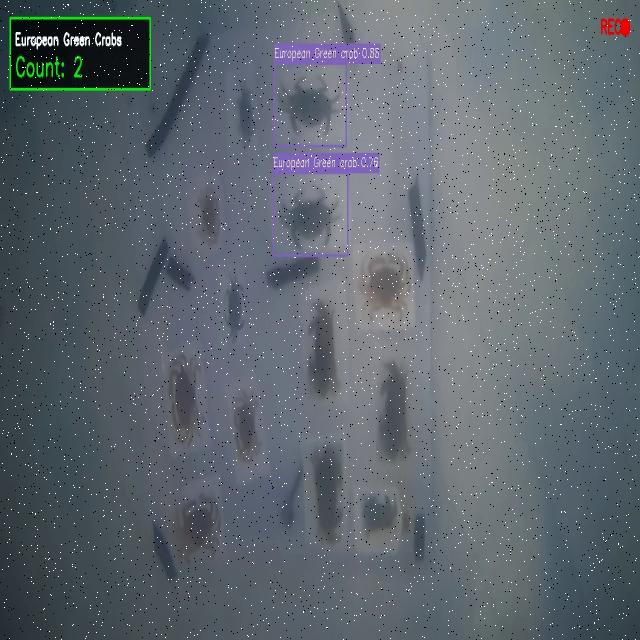European_Green_Crab: (276, 178, 346, 255), (277, 67, 340, 139), (231, 68, 259, 159), (223, 271, 249, 346)
